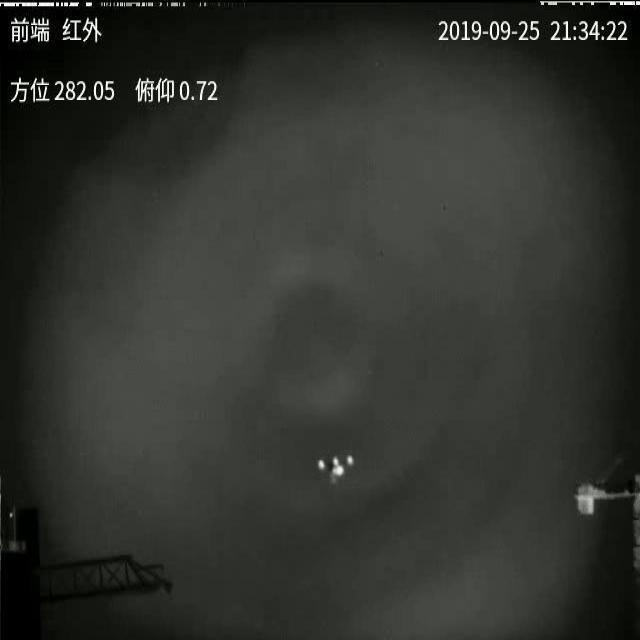drone: (317, 450, 356, 490)
